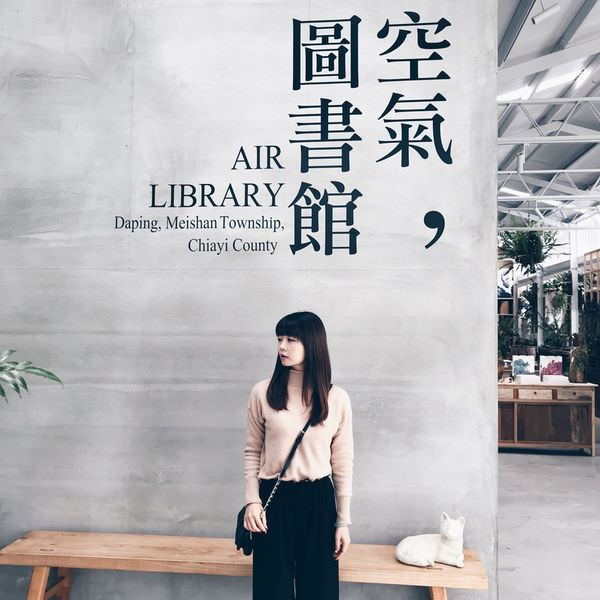people: (243, 314, 351, 600)
